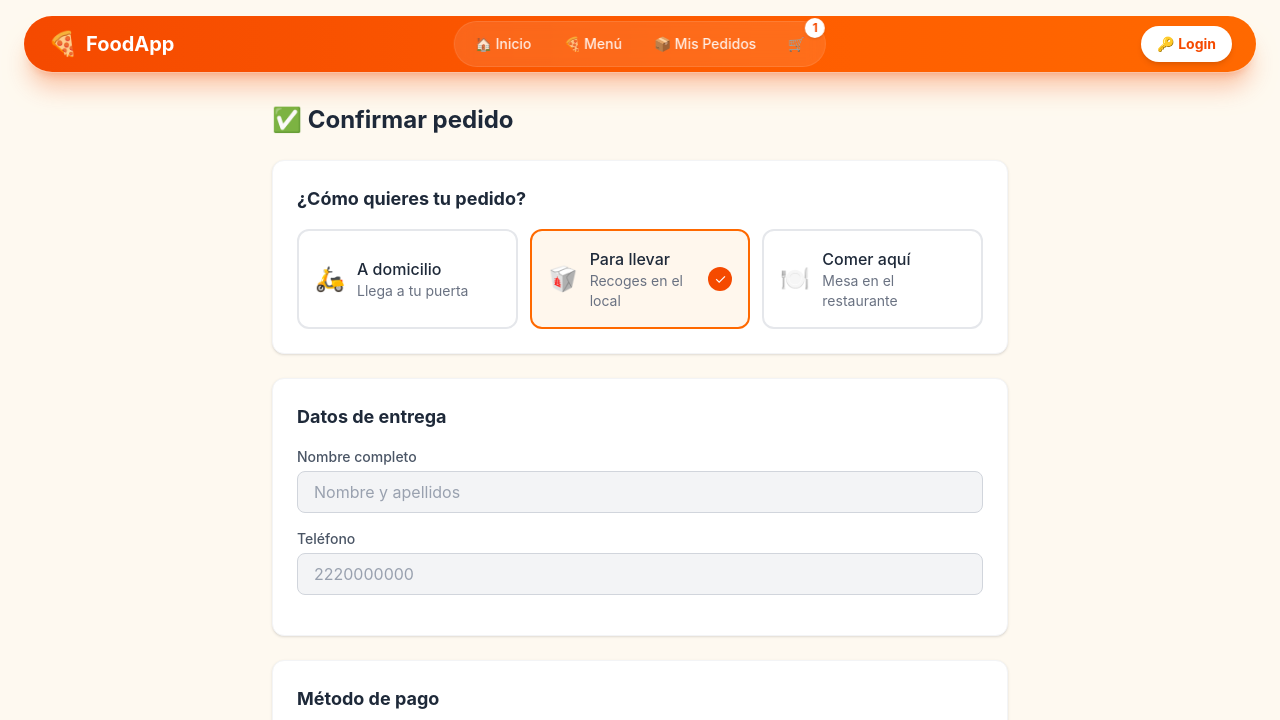
CheckoutPage - modo Comer aquí › confirma en Comer aquí sin teléfono porque no lo pide
Click the text "Comer aquí" at (866,259), box [822, 249, 910, 269]
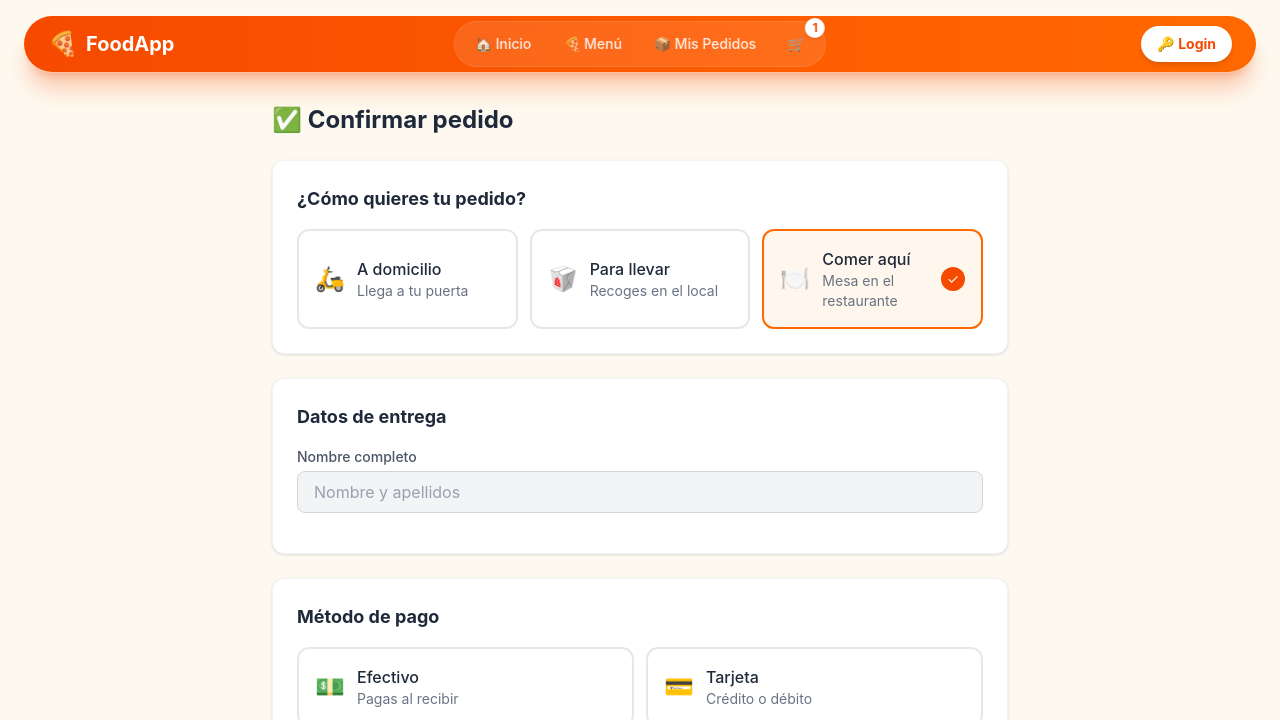
Type "Ana López" into the field labelled "Nombre completo" at (640,492), box [297, 471, 983, 513]
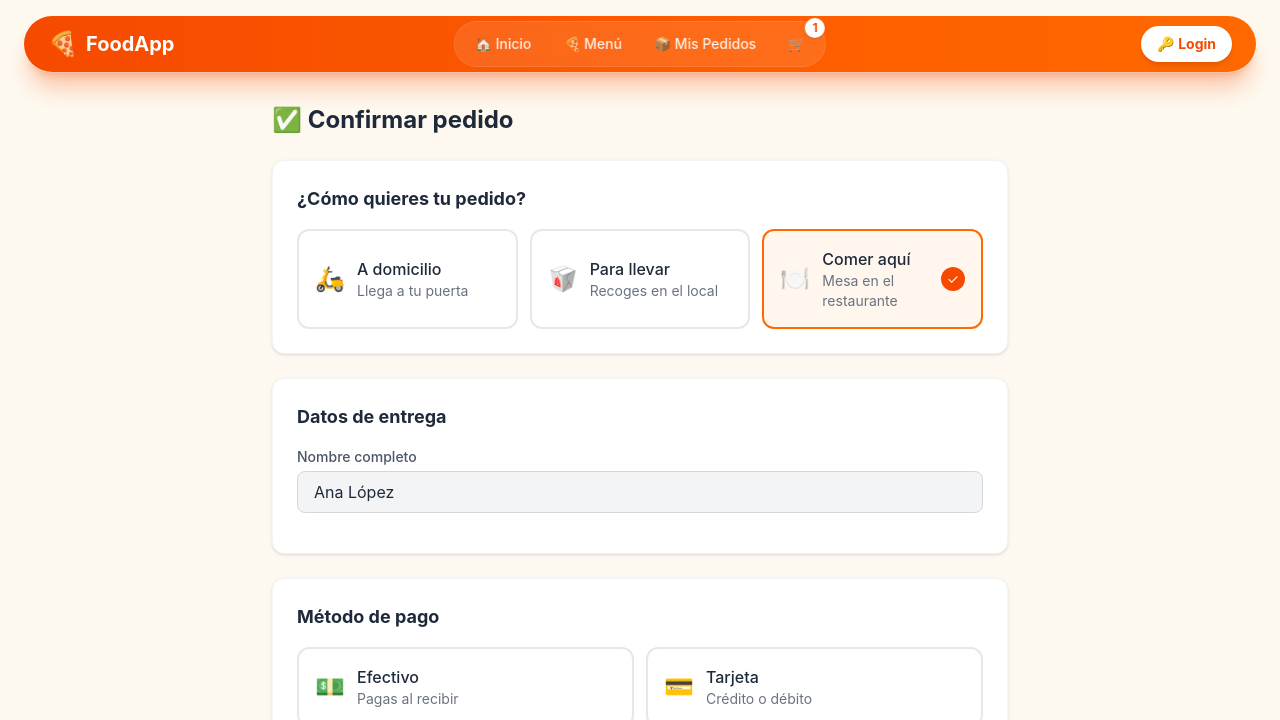
Click the text "Efectivo" at (388,677), box [357, 667, 419, 687]
(page scrolled)
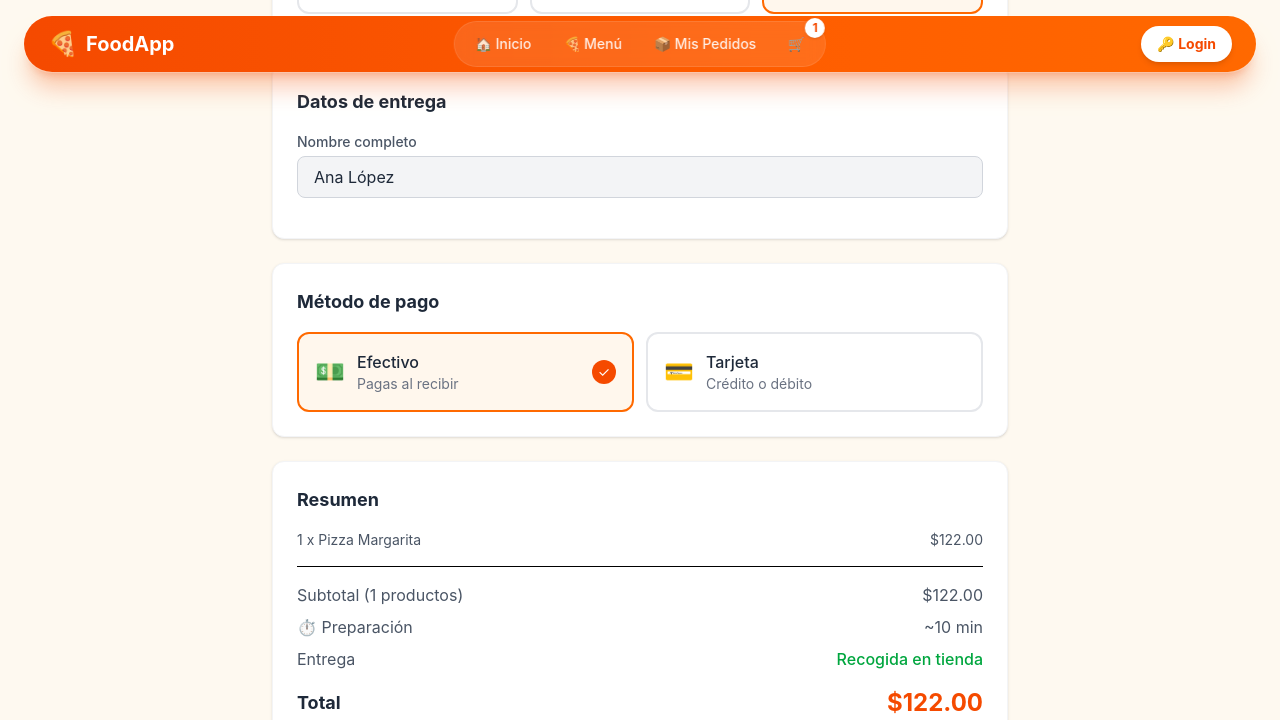
Submit the form named "Confirmar pedido"
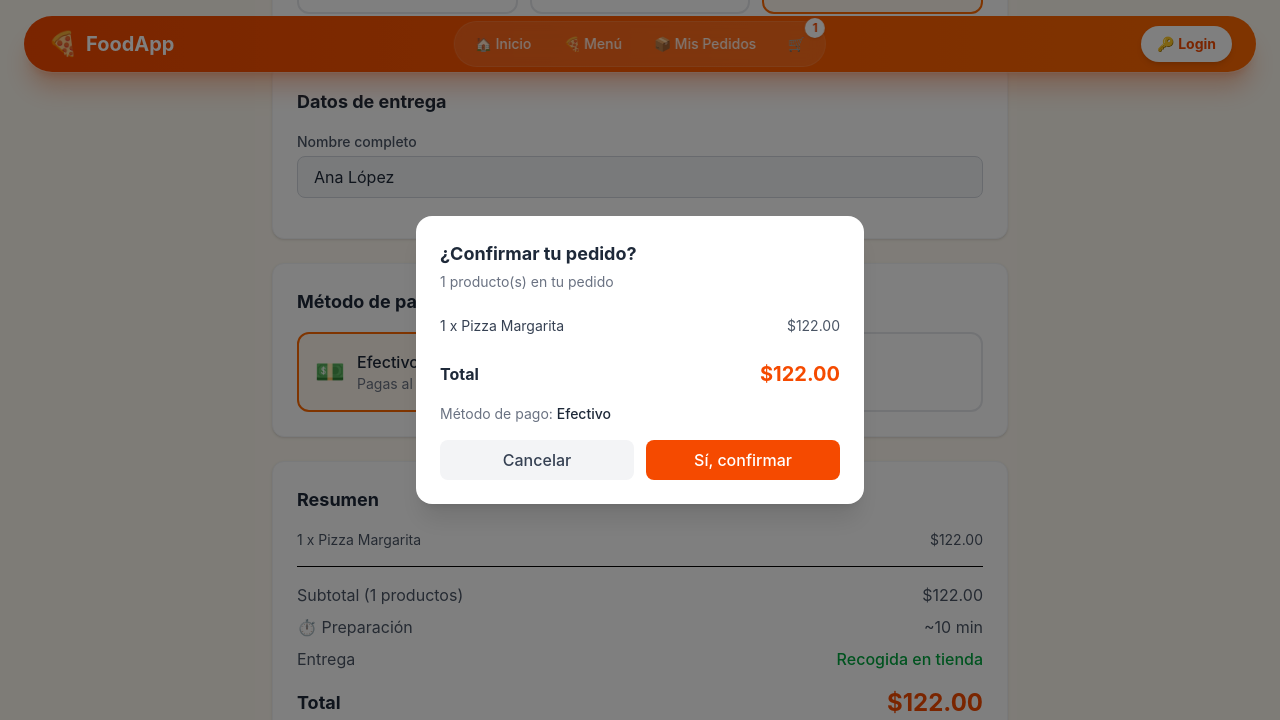
Result: the heading "¿Confirmar tu pedido?" is shown at [440, 243, 637, 264]
